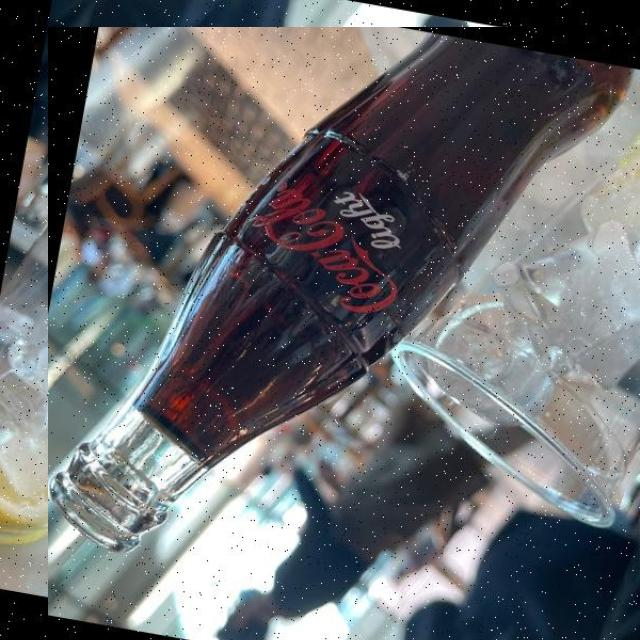coca-cola: (48, 27, 640, 640)
